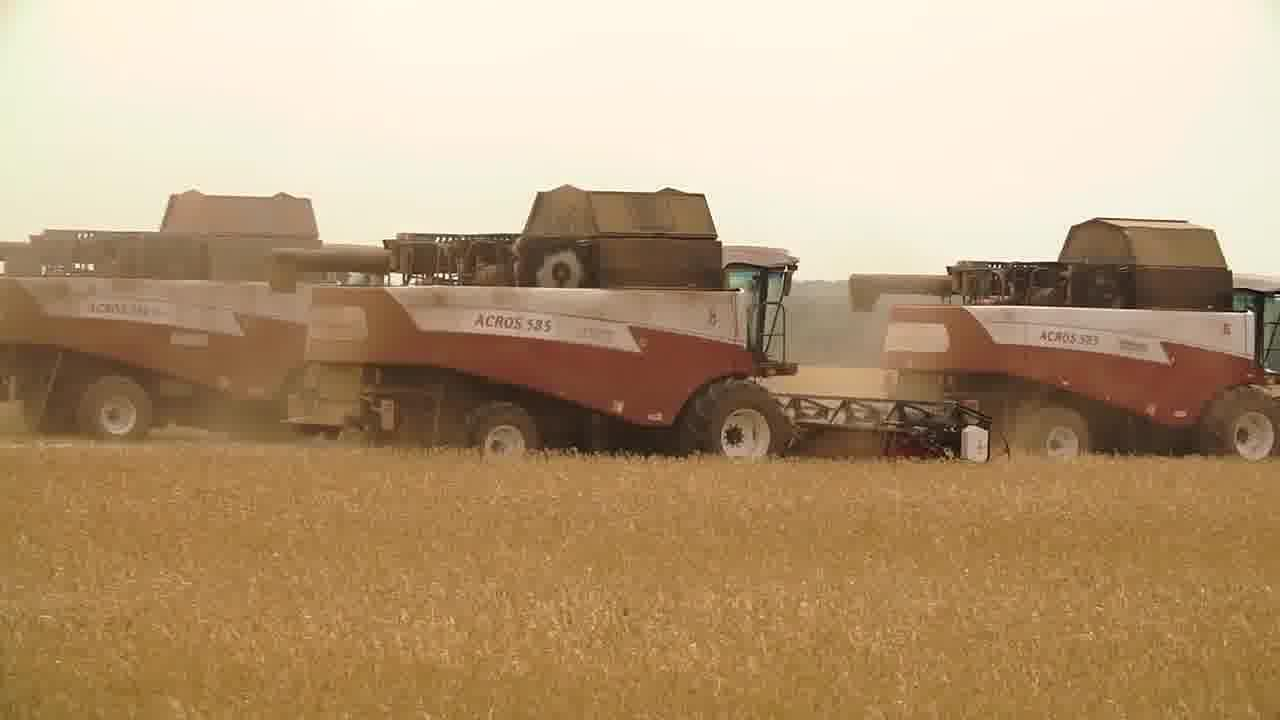combine harvester: (266, 179, 1008, 480), (0, 185, 361, 486), (843, 213, 1280, 457)
